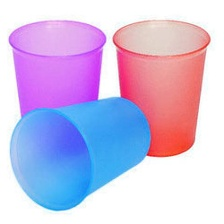glass: (6, 89, 155, 213), (107, 9, 218, 163), (3, 17, 109, 145)
